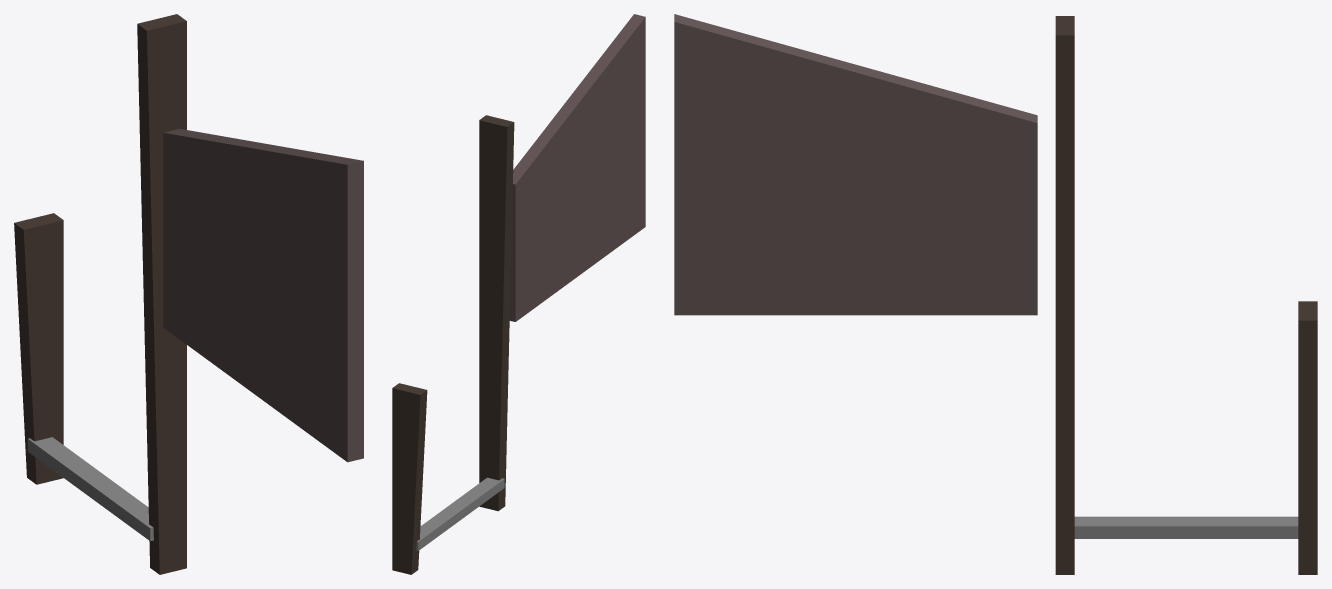
The model's file is mr-tpo-gubbins-2.dae.
3 renders of one model, left to right at view 1: azimuth 30°, elevation 25°; view 2: azimuth 150°, elevation 25°; view 3: azimuth 270°, elevation 25°, orthographic. The views are drawn at different scales.
Parts seen in each view (by area): view 1: Cube_018, Cube_023, Cube_021, Plane_327_002; view 2: Cube_018, Cube_023, Cube_021, Plane_327_002; view 3: Cube_018, Cube_023, Cube_021, Plane_327_002.
Boxes of the visible parts, x1,y1,x2,y2 form: Cube_018: [163, 128, 363, 462]; Cube_023: [137, 14, 186, 574]; Cube_021: [14, 213, 63, 484]; Plane_327_002: [27, 437, 153, 541]; Cube_018: [509, 14, 645, 321]; Cube_023: [479, 115, 514, 511]; Cube_021: [392, 383, 427, 574]; Plane_327_002: [416, 477, 504, 550]; Cube_018: [674, 14, 1037, 315]; Cube_023: [1055, 16, 1074, 574]; Cube_021: [1298, 301, 1317, 574]; Plane_327_002: [1074, 516, 1298, 538].
Bounding box in the file's own units: 0.1193 × 1.68 × 1.58.
